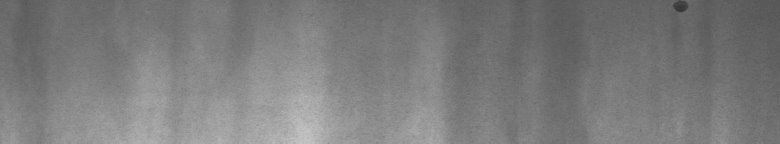fi: (668, 4, 692, 20)
